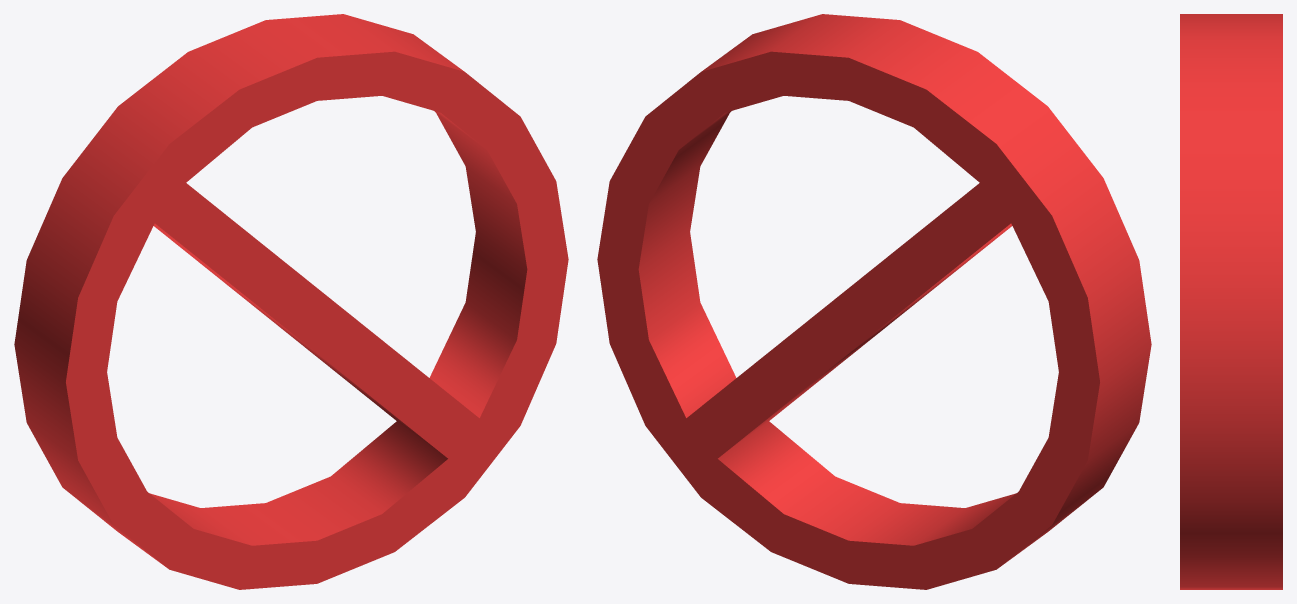
The model's file is Prohibit.FBX.
The picture shows the model from 3 angles, left to right: view 1: azimuth 30°, elevation 25°; view 2: azimuth 150°, elevation 25°; view 3: azimuth 270°, elevation 25°; orthographic projection.
Visible parts, largest first — view 1: Prohibit; view 2: Prohibit; view 3: Prohibit.
Boxes of the visible parts, x1,y1,x2,y2 form: Prohibit: (14, 14, 568, 589); Prohibit: (597, 14, 1151, 589); Prohibit: (1180, 14, 1282, 589).
Size of the model in its own units: 21.56 by 21.56 by 3.82.
